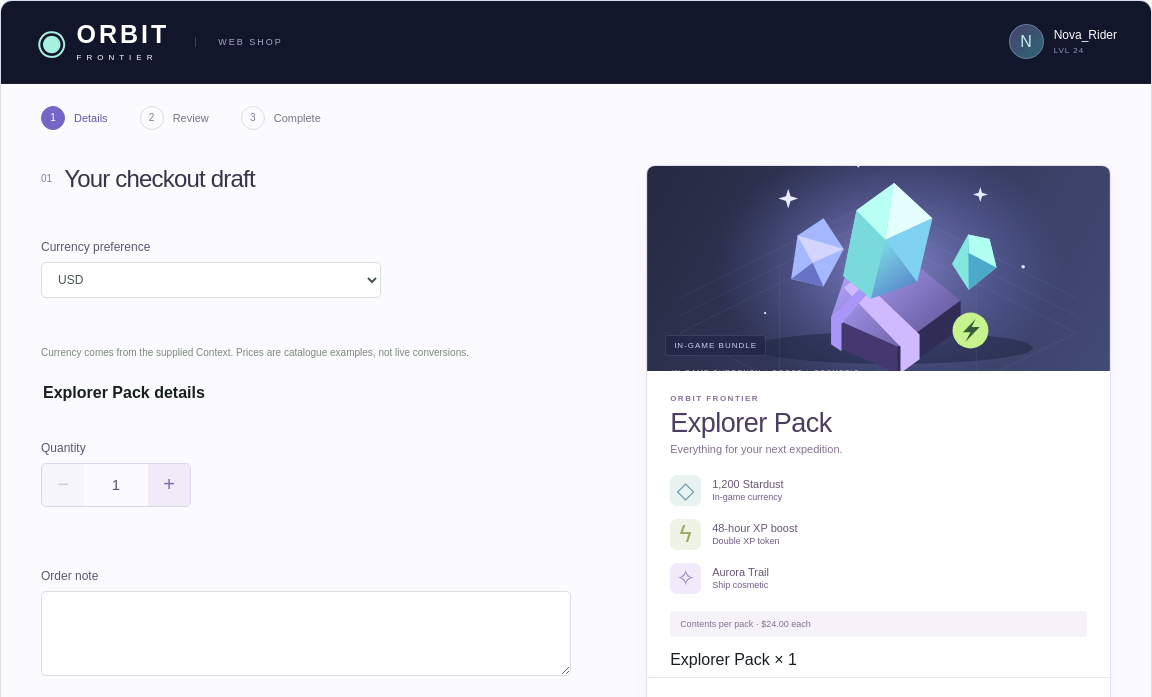
it: supplied currency Context works before students complete the draft TODOs
Select "EUR" in the dropdown labelled "Currency preference" at (211, 280), box 41,262 -> 381,298
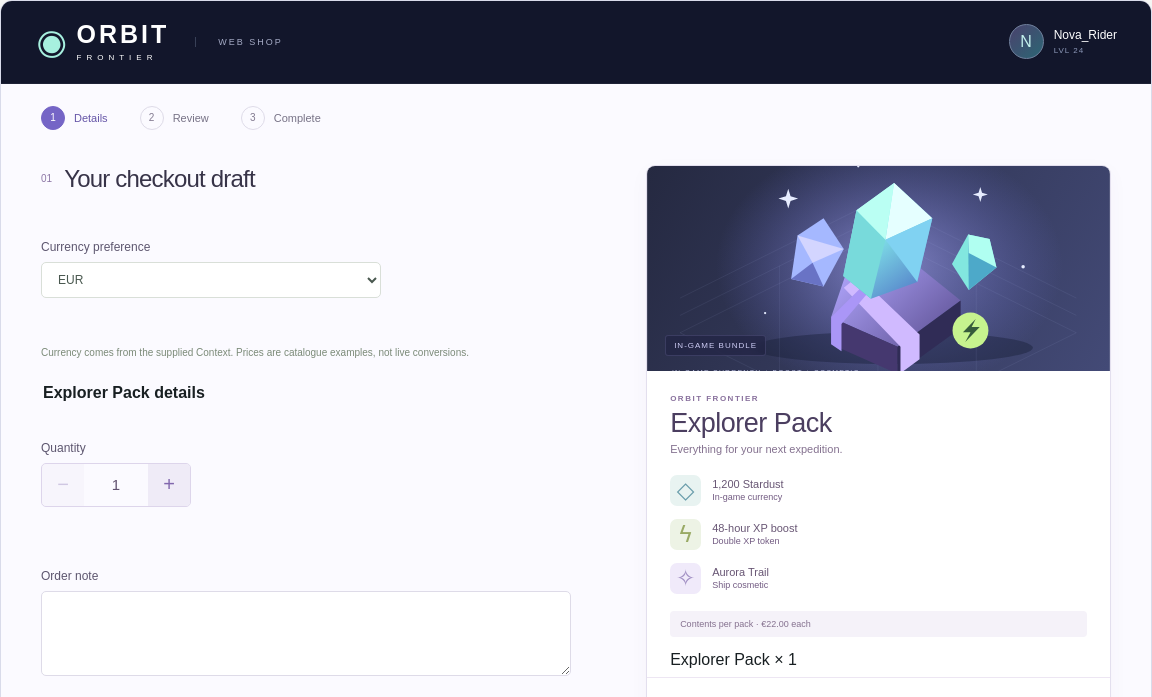
Select "GBP" in the dropdown labelled "Currency preference" at (211, 280), box 41,262 -> 381,298
(page scrolled)
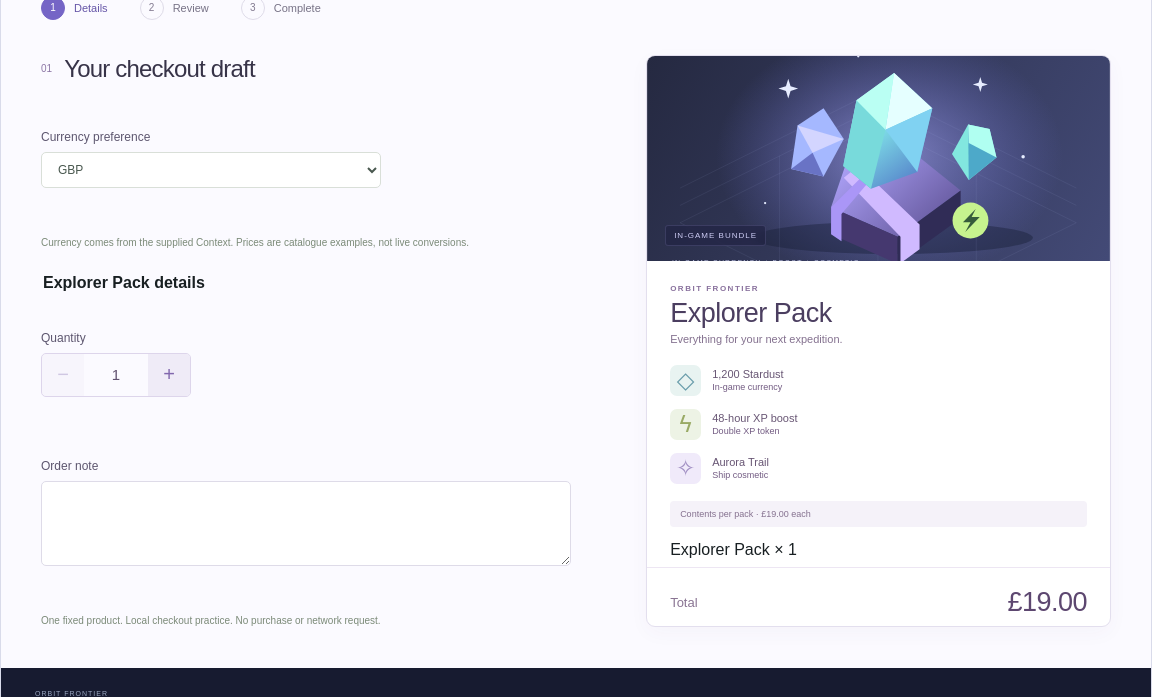
Expected: the text with test id "total" reads "£19.00", 1007,587 -> 1087,617
